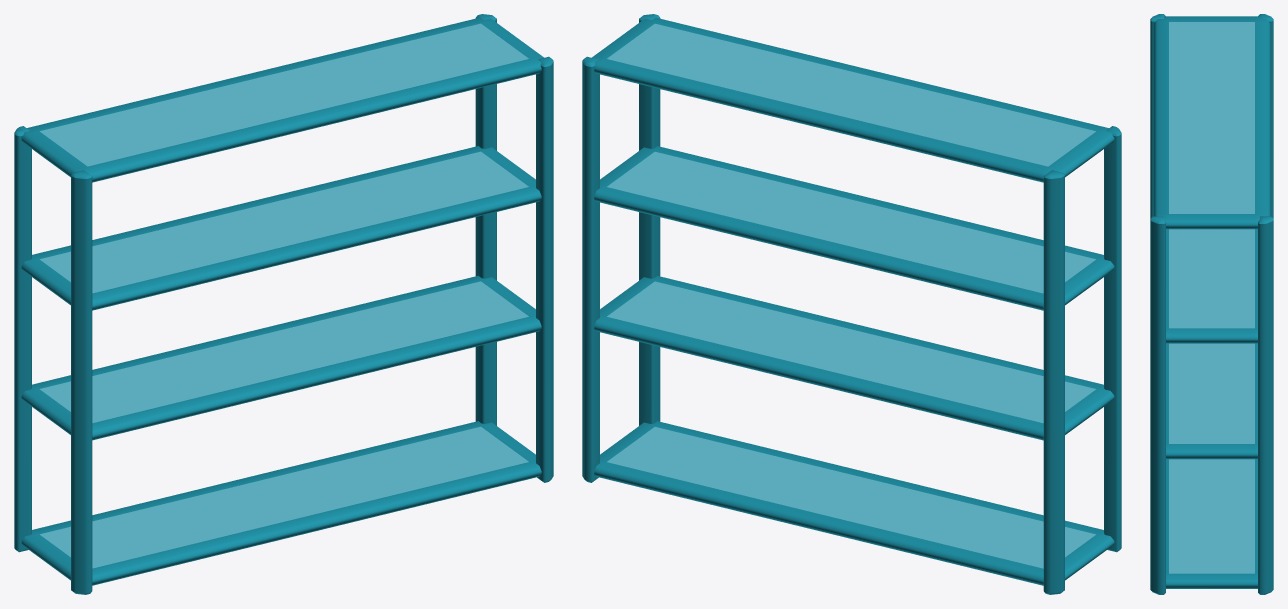
The model's file is ShelfGeo.fbx.
3 renders of one model, left to right at view 1: azimuth 30°, elevation 25°; view 2: azimuth 150°, elevation 25°; view 3: azimuth 270°, elevation 25°, orthographic. The views are drawn at different scales.
Visible parts, largest first — view 1: ShelfGeo; view 2: ShelfGeo; view 3: ShelfGeo.
Part boxes in pixels (x1,y1,x2,y2): ShelfGeo: (14, 14, 553, 594); ShelfGeo: (582, 14, 1121, 594); ShelfGeo: (1150, 14, 1273, 594).
Size of the model in its own units: 536 by 447 by 134.
